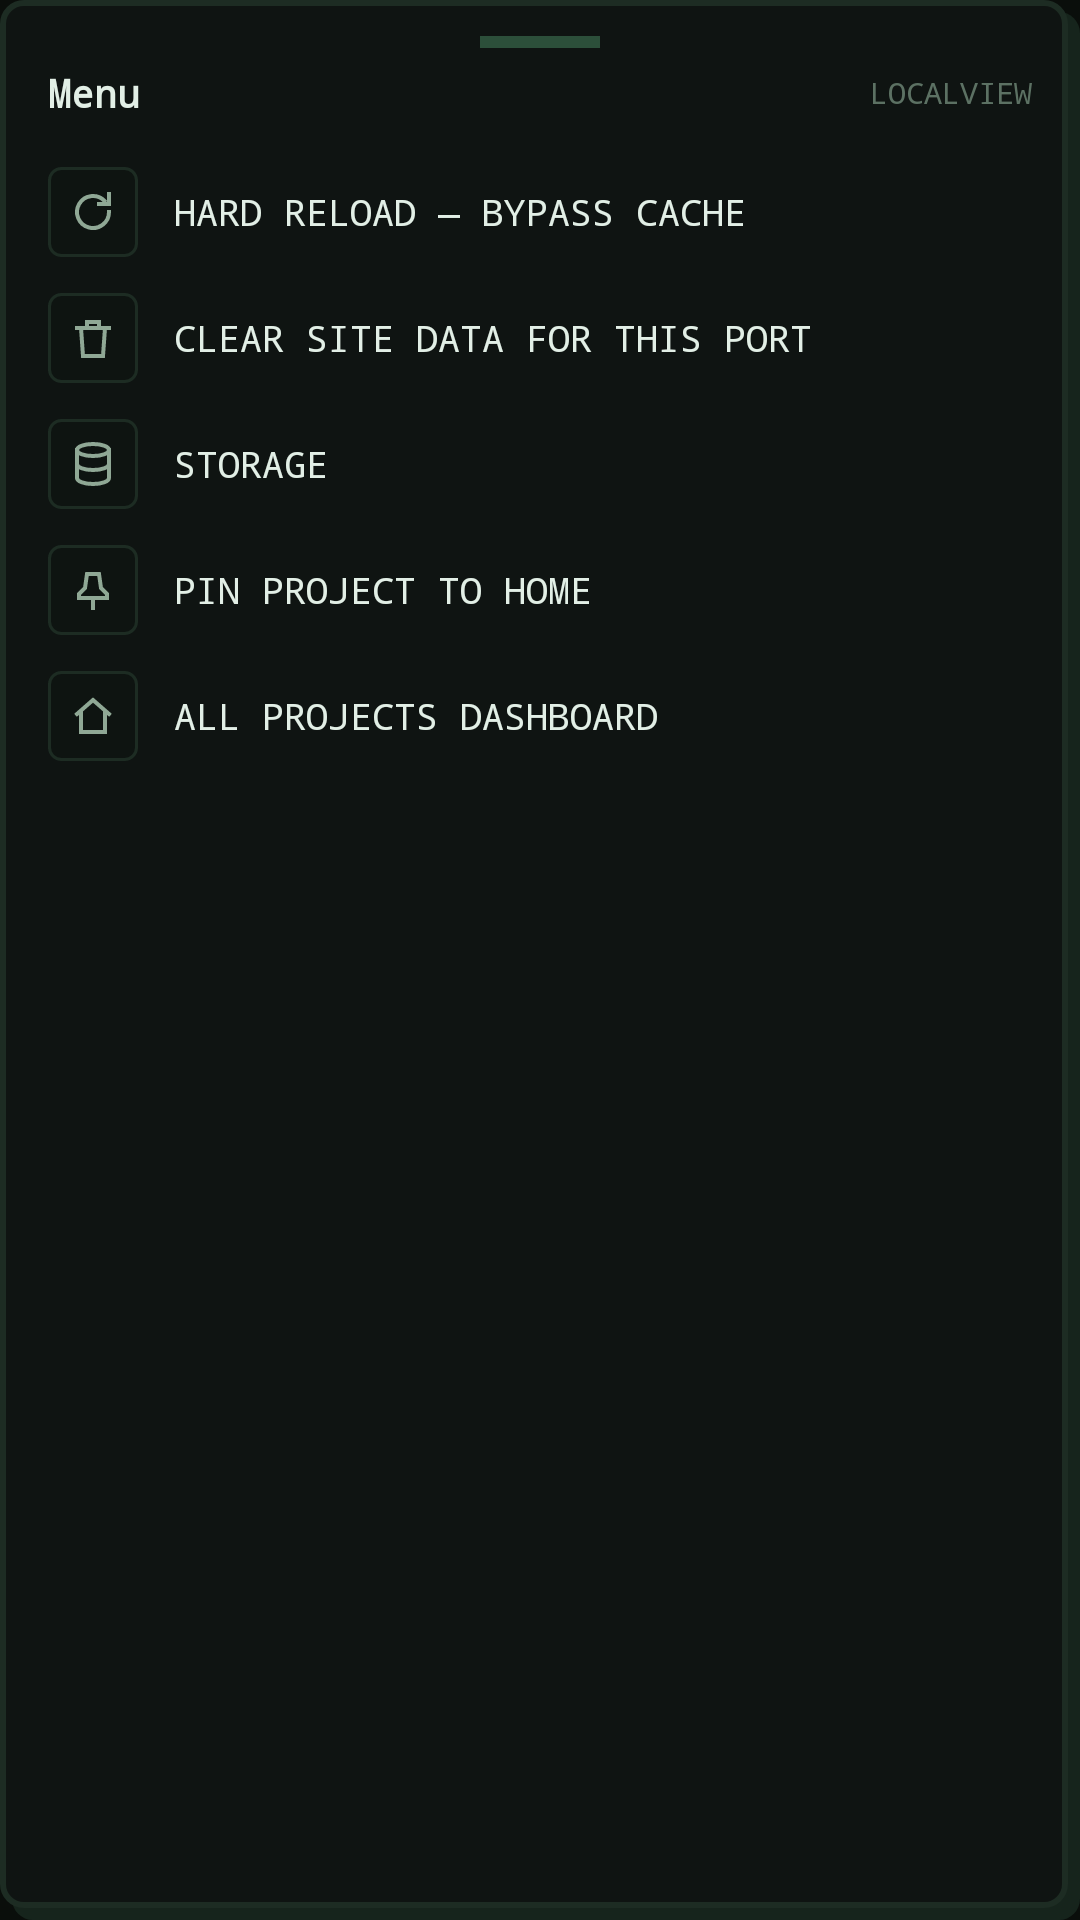

Where to tap for icons on this 1080 × 1920 app screen, as [x,y]:
trash: [93,339]
